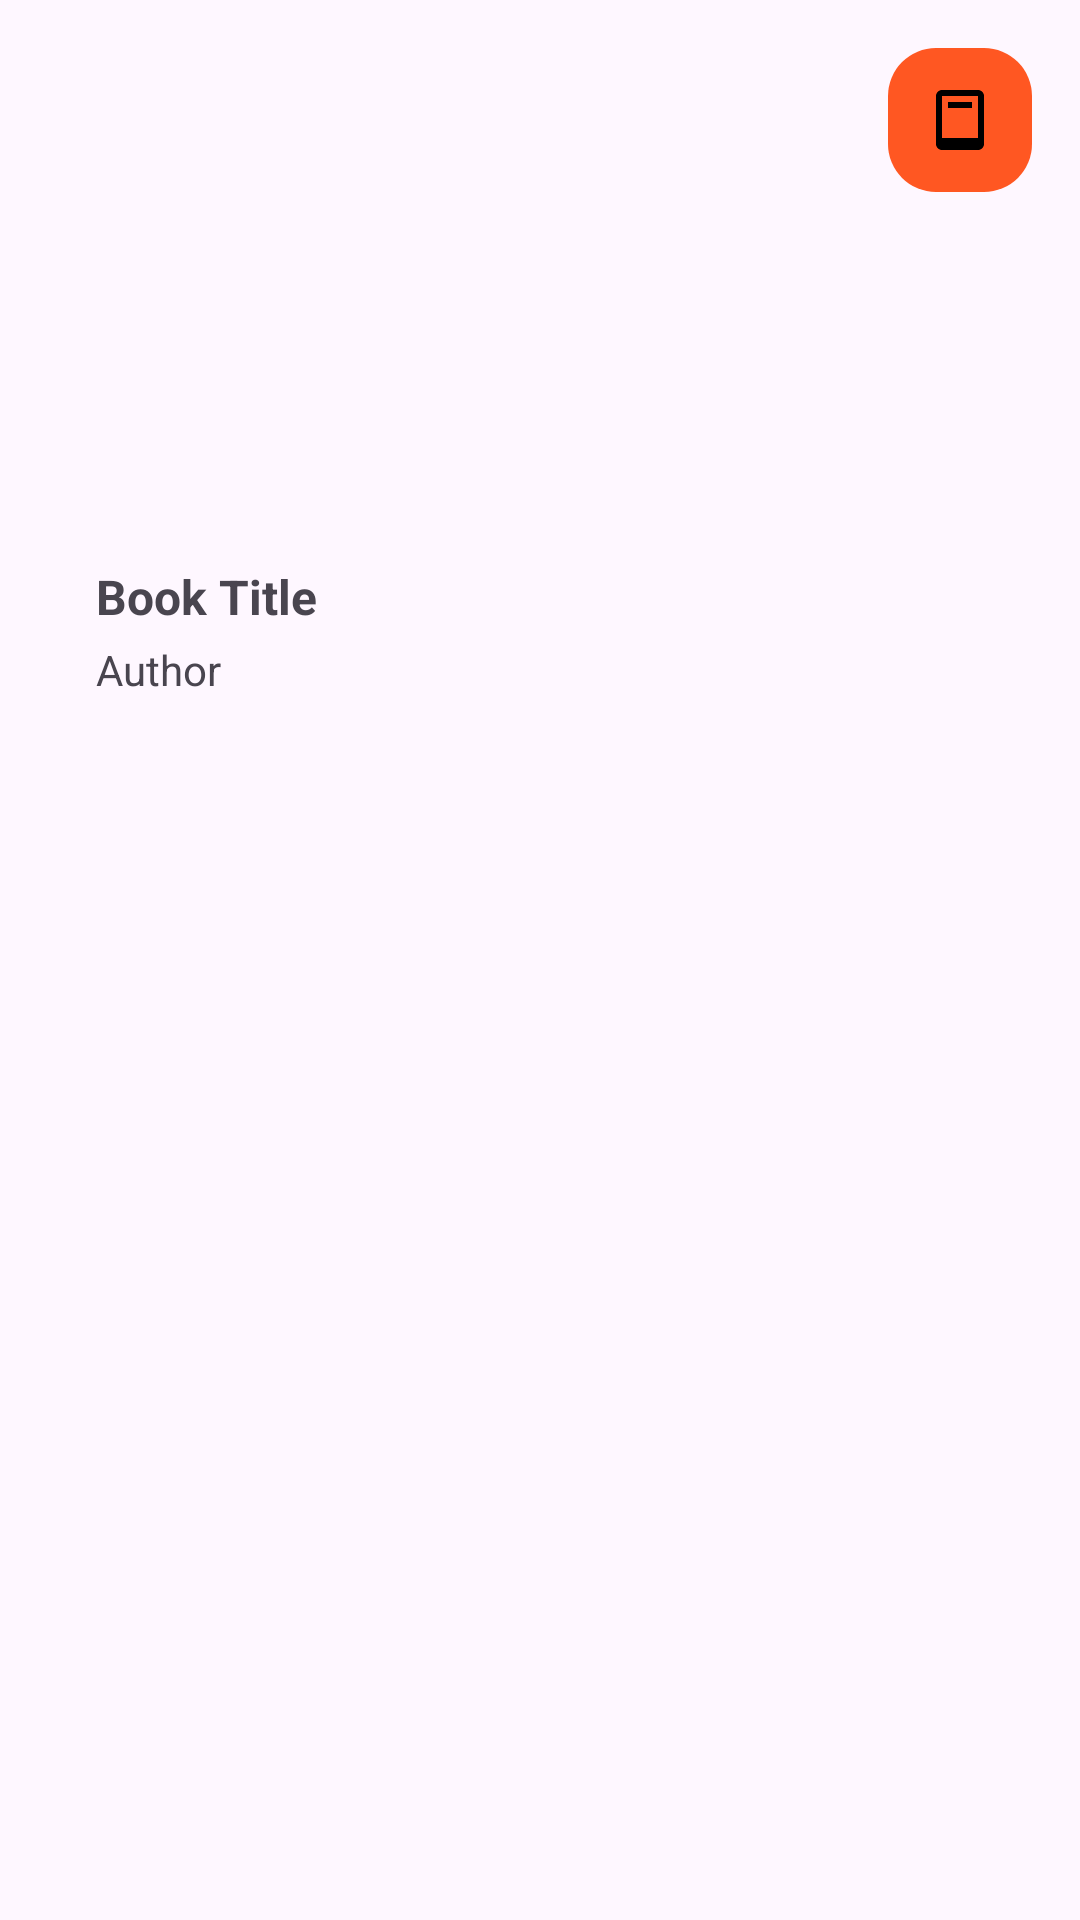

Locate icon controls on the screen. Image size 1080px×1920px, boxes as [x1=x1, y1=y1, x2=x2, y2=y2].
Tombol Cari Buku: [x1=888, y1=48, x2=1032, y2=192]
